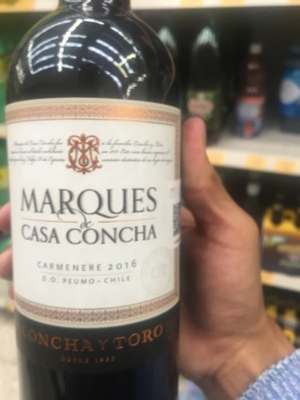marques de casa concha carmenere: (5, 18, 187, 400)
